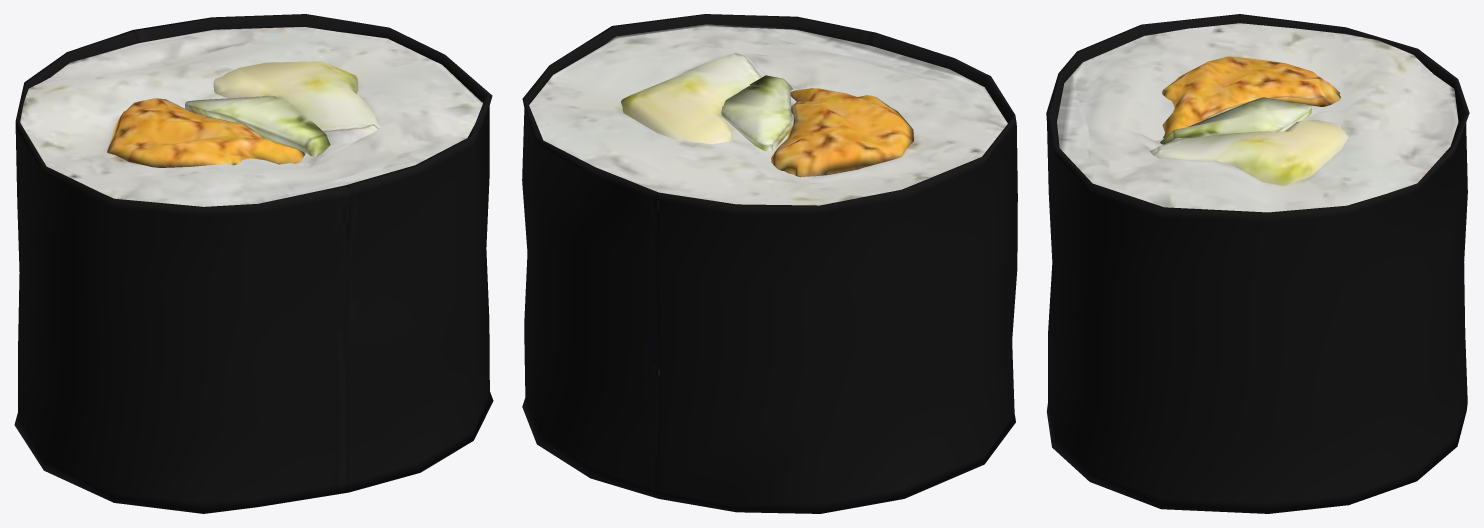
File: Sushi.glb
3 renders of one model, left to right at view 1: azimuth 30°, elevation 25°; view 2: azimuth 150°, elevation 25°; view 3: azimuth 270°, elevation 25°, orthographic. The views are drawn at different scales.
Visible parts, largest first — view 1: Sushi; view 2: Sushi; view 3: Sushi.
Part boxes in pixels (left/top/right/bottom): Sushi: left=14, top=14, right=493, bottom=513; Sushi: left=522, top=14, right=1017, bottom=513; Sushi: left=1046, top=14, right=1469, bottom=513.
Bounding box in the file's own units: 0.0554 × 0.0406 × 0.0492.
1 material, 1 textured.
